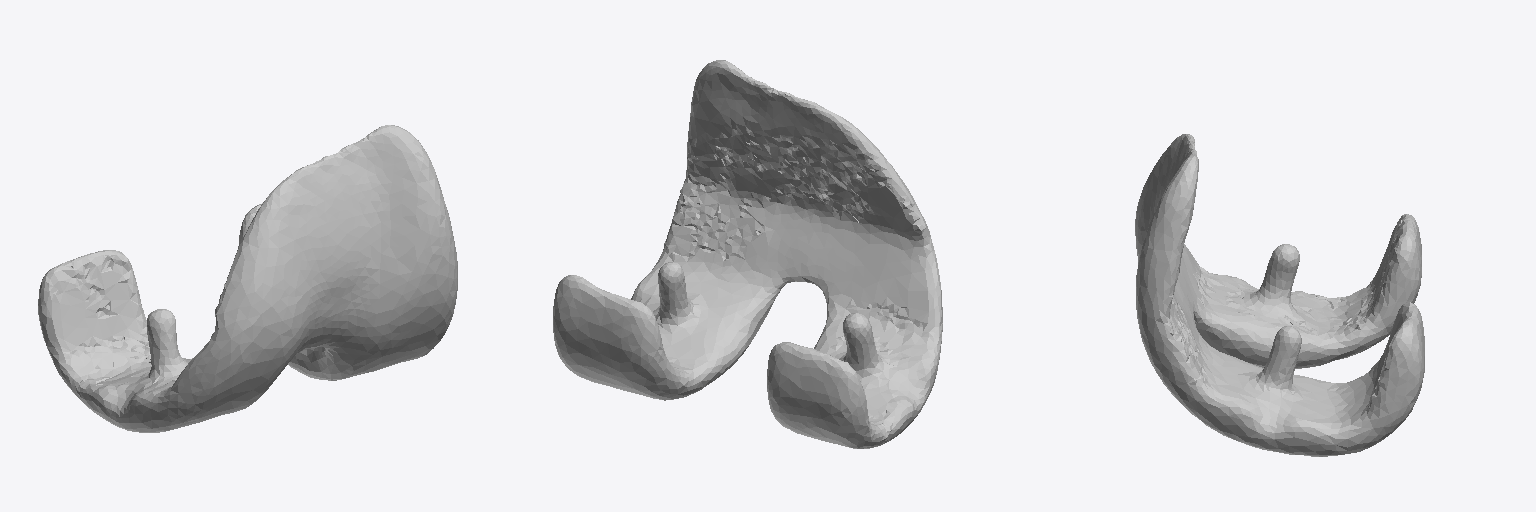
File: ProtesiSopraNonSistemata.obj
3 views of the same model, side by side, from view 1: azimuth 30°, elevation 25°; view 2: azimuth 150°, elevation 25°; view 3: azimuth 270°, elevation 25° (orthographic).
Parts seen in each view (by area): view 1: Knee_Prosthesis_4_Knee_Prosthesis_4.002; view 2: Knee_Prosthesis_4_Knee_Prosthesis_4.002; view 3: Knee_Prosthesis_4_Knee_Prosthesis_4.002.
Boxes of the visible parts, x1,y1,x2,y2 form: Knee_Prosthesis_4_Knee_Prosthesis_4.002: [38, 125, 457, 432]; Knee_Prosthesis_4_Knee_Prosthesis_4.002: [553, 60, 942, 448]; Knee_Prosthesis_4_Knee_Prosthesis_4.002: [1135, 134, 1424, 456].
Size of the model in its own units: 28.65 by 24.83 by 23.08.